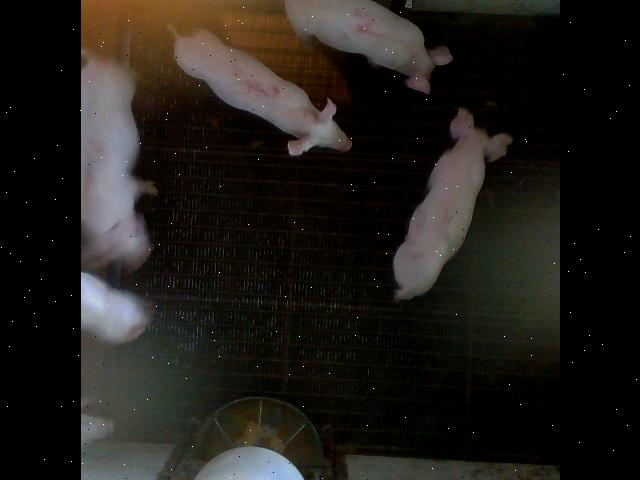pig-4: (285, 0, 451, 94)
pig-5: (168, 26, 351, 155)
